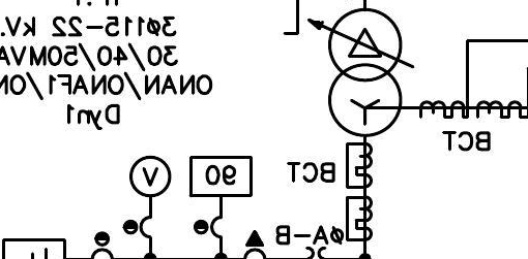11522_tx_dyn1: (327, 8, 403, 138)
v_m: (128, 155, 173, 198)
